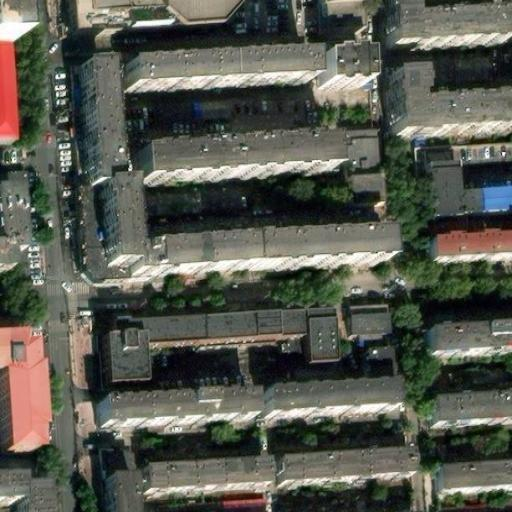building: (151, 231, 388, 278), (138, 138, 333, 181), (140, 319, 330, 355), (99, 394, 248, 439), (126, 59, 308, 95), (274, 448, 409, 486), (262, 386, 396, 424), (0, 337, 36, 460), (77, 64, 112, 184), (386, 22, 506, 56), (142, 457, 269, 488), (416, 105, 512, 141), (98, 188, 132, 274), (434, 456, 512, 493), (428, 391, 512, 425), (423, 316, 512, 346), (422, 250, 512, 277), (102, 348, 144, 402), (453, 189, 512, 224), (386, 81, 418, 143), (342, 140, 380, 186), (424, 170, 455, 225), (140, 499, 266, 512), (324, 57, 368, 93), (344, 306, 384, 344), (300, 332, 333, 378), (355, 340, 388, 383), (0, 57, 13, 159), (344, 185, 376, 218), (12, 481, 45, 512), (96, 480, 126, 512), (436, 500, 512, 512), (385, 4, 406, 26)
